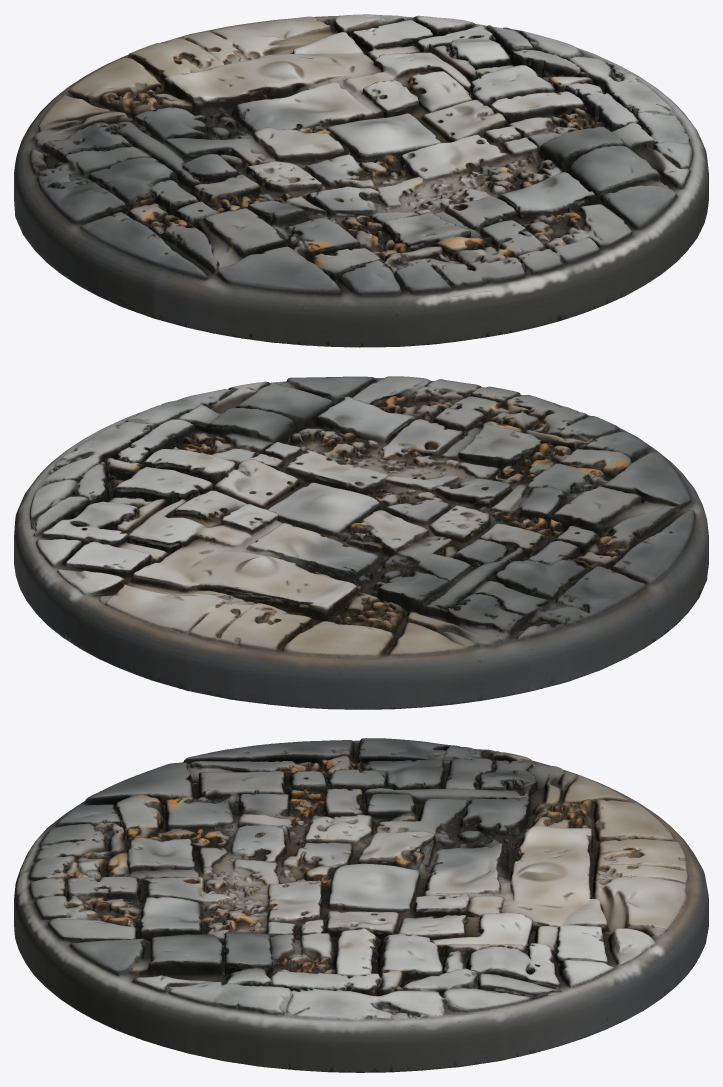
File: Meshy_AI_Stone_Base_Platform_0220192310_texture.glb
The picture shows the model from 3 angles, top to bottom: view 1: azimuth 30°, elevation 25°; view 2: azimuth 150°, elevation 25°; view 3: azimuth 270°, elevation 25°; orthographic projection.
Size of the model in its own units: 2 by 0.2048 by 2.
1 material, 1 textured.
